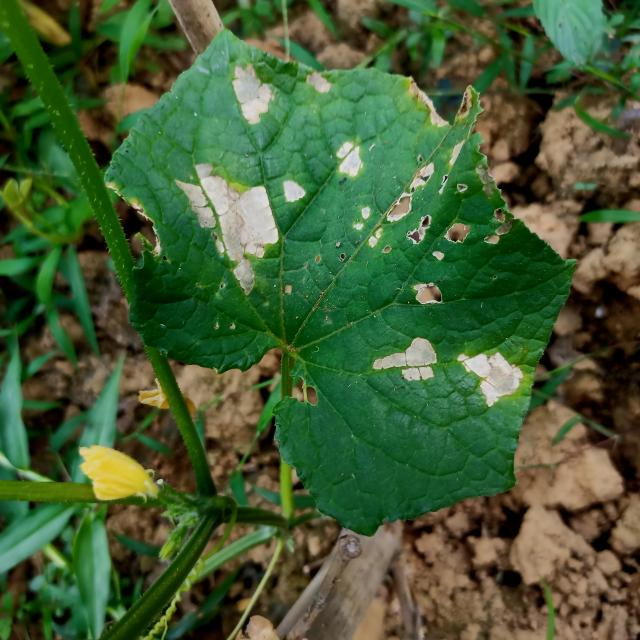disease_cucumber: (175, 157, 281, 287), (354, 159, 442, 252), (282, 137, 370, 209), (457, 339, 523, 413), (371, 332, 441, 390), (218, 62, 278, 125)
